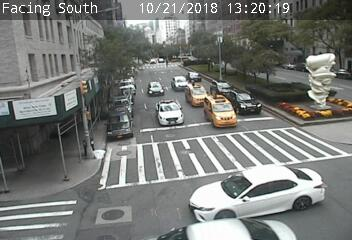car: (206, 95, 237, 128), (230, 90, 262, 112), (157, 102, 185, 125), (186, 84, 210, 106), (211, 81, 236, 99), (172, 75, 189, 89), (148, 82, 164, 95), (188, 71, 202, 82)
